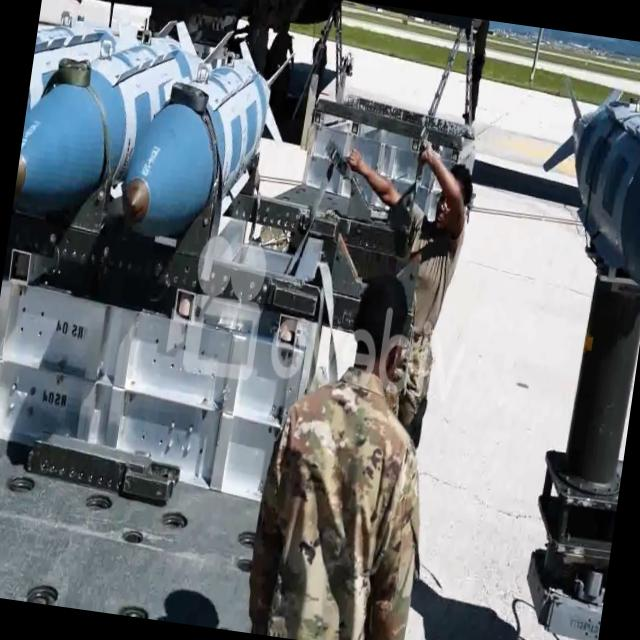rocket: (13, 11, 266, 249)
